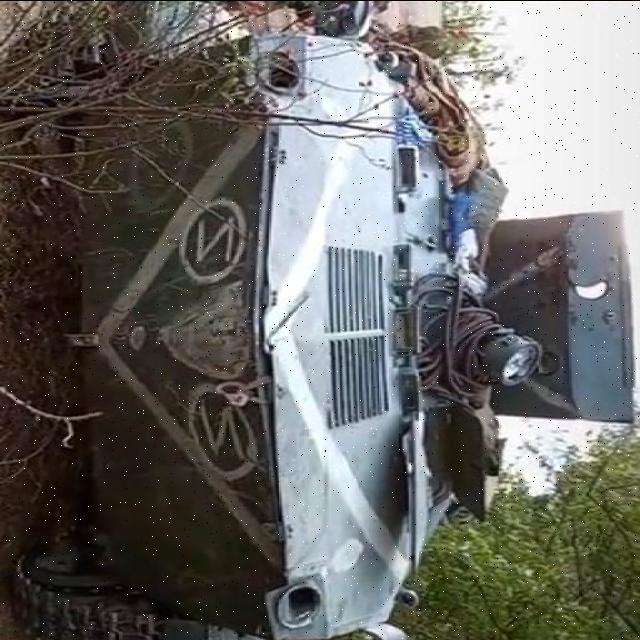APC-IFV: (27, 29, 618, 640)
